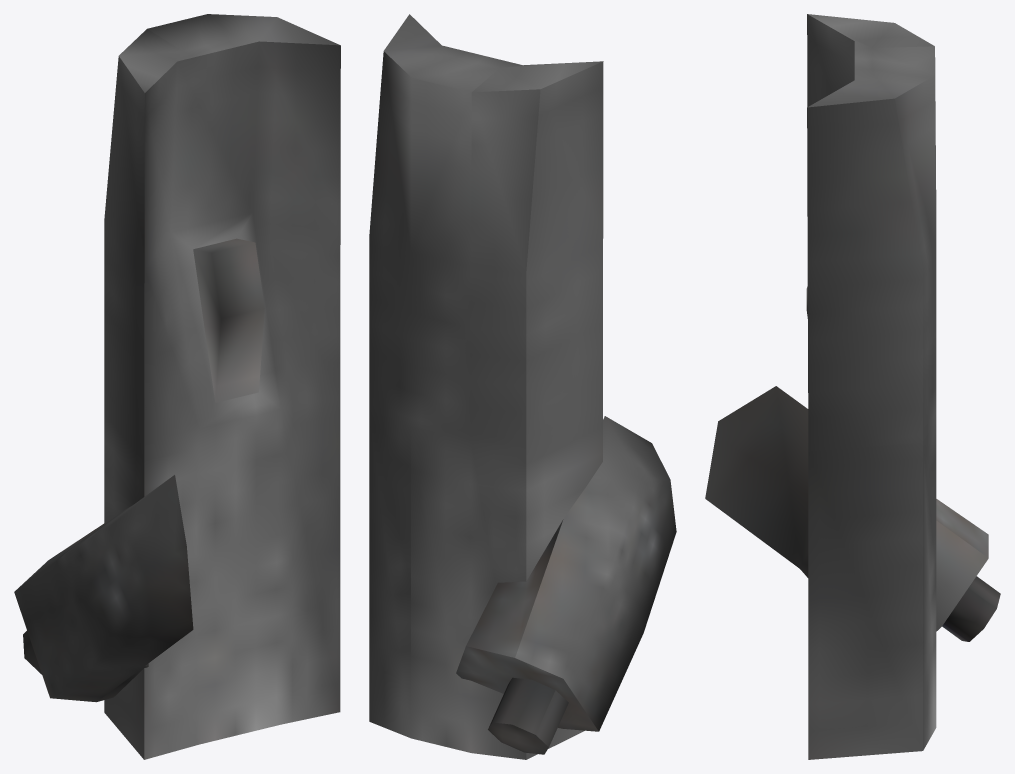
The model's file is 1875Gun_TrapDoorClosed.fbx.
The picture shows the model from 3 angles, left to right: view 1: azimuth 30°, elevation 25°; view 2: azimuth 150°, elevation 25°; view 3: azimuth 270°, elevation 25°; orthographic projection. The views are drawn at different scales.
Visible parts, largest first — view 1: Trapdoor; view 2: Trapdoor; view 3: Trapdoor.
Part boxes in pixels (x1=…): Trapdoor: x1=14, y1=14, x2=340, y2=759; Trapdoor: x1=369, y1=14, x2=676, y2=759; Trapdoor: x1=705, y1=14, x2=1000, y2=759.
Size of the model in its own units: 0.0143 by 0.0379 by 0.0156.
